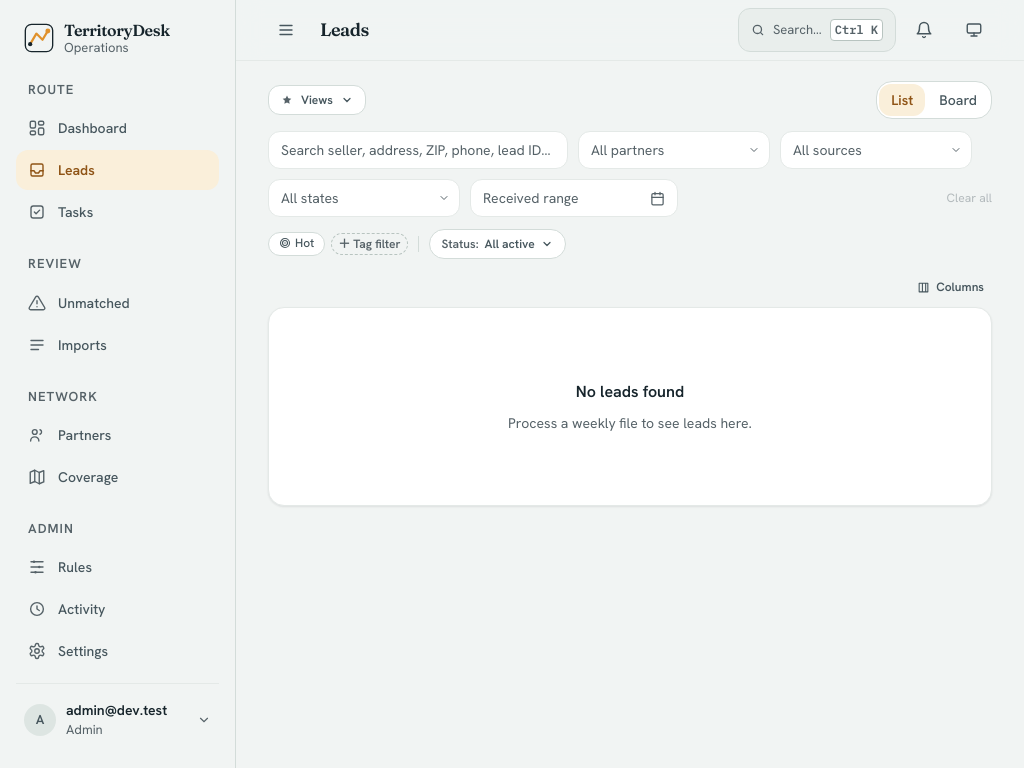
Test: N3B-03/C-54: the filtered-to-zero leads list offers a way out › N3B-03/C-54: leads filtered-empty offers Clear filters and resets the bar
Expected: the text "No leads found" is shown, left=576, top=380, right=684, bottom=405
Expected: the button "Clear filters" is not shown
// Now filter to zero, from two different controls so the reset has to clear more than text.
Type "cactus" into the field named "search leads" at coordinates (418, 150), box left=268, top=131, right=568, bottom=169
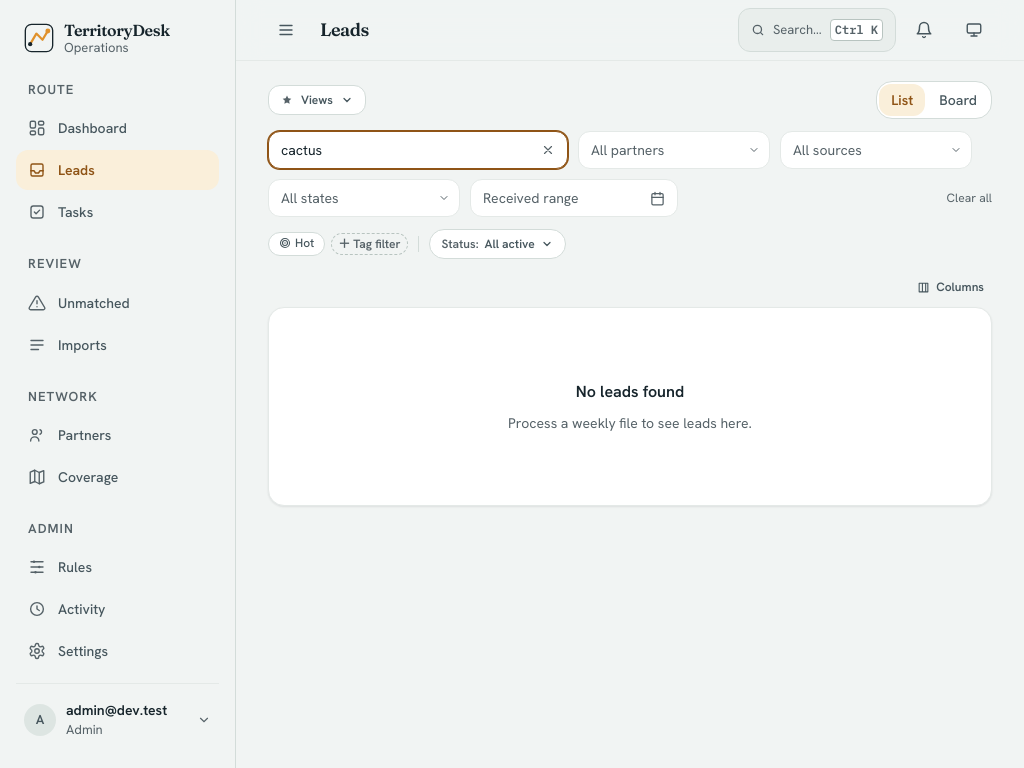
Click the button "Hot" at coordinates (297, 244), box left=268, top=232, right=325, bottom=256
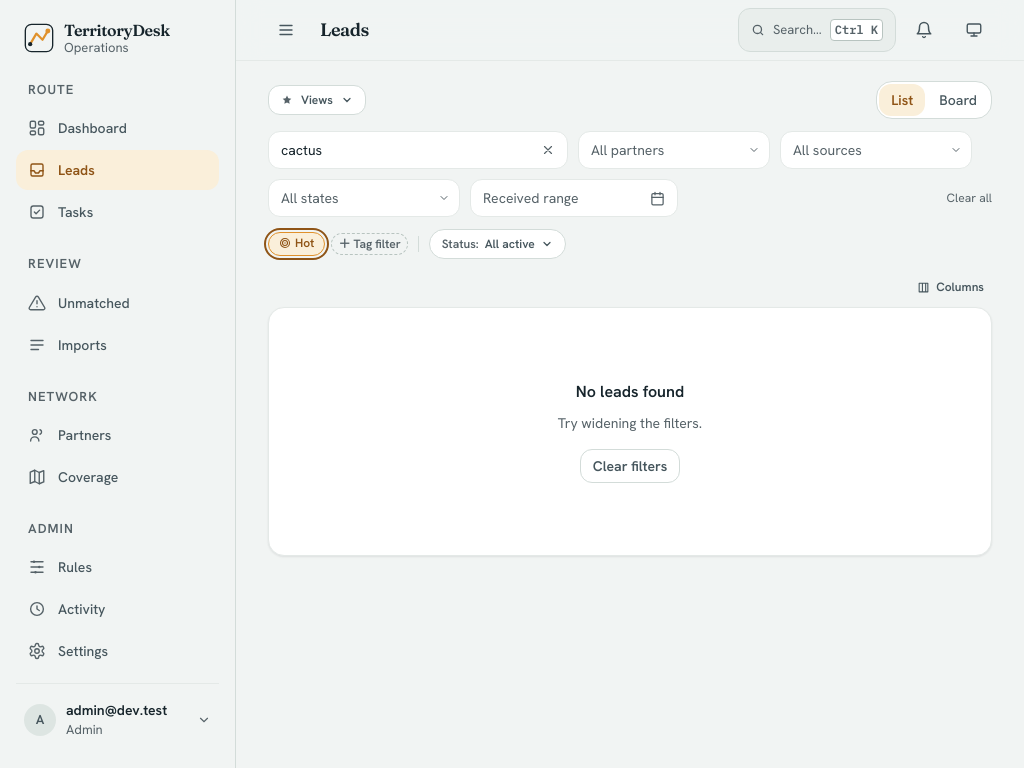
// The empty state now carries the way out.
Click the button "Clear filters" at coordinates (630, 466), box left=580, top=449, right=680, bottom=483
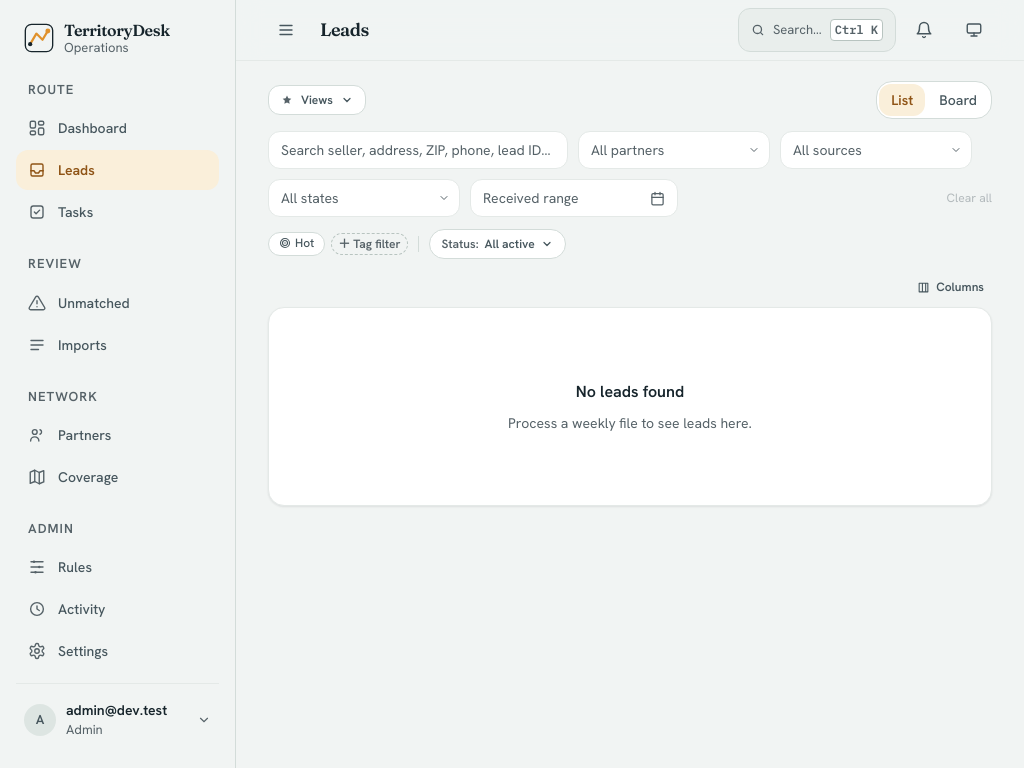
Expected: the field named "search leads" is empty, left=268, top=131, right=568, bottom=169
Expected: the button "Clear filters" is gone
